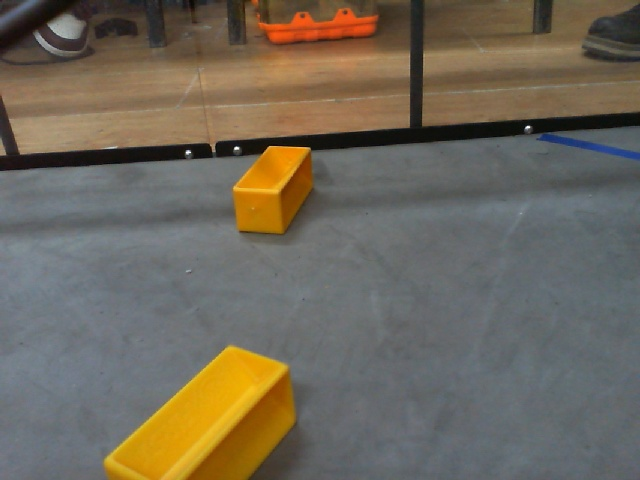YellowSample: (97, 342, 303, 480), (229, 138, 319, 241)
